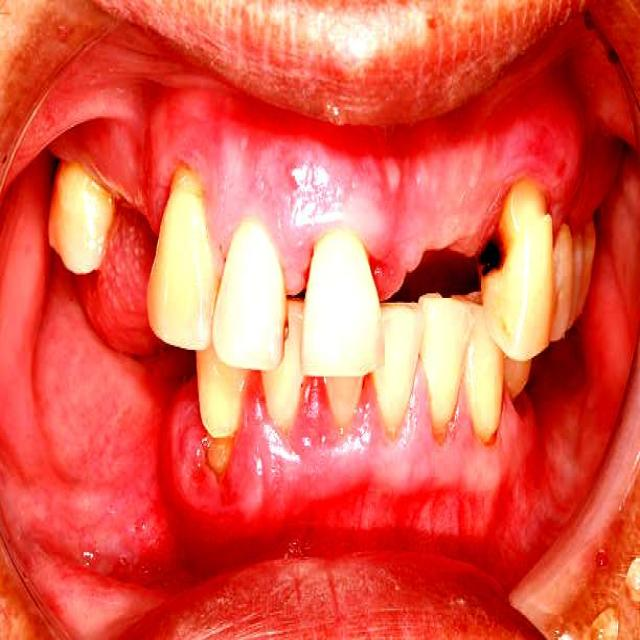caries: (467, 205, 527, 298)
